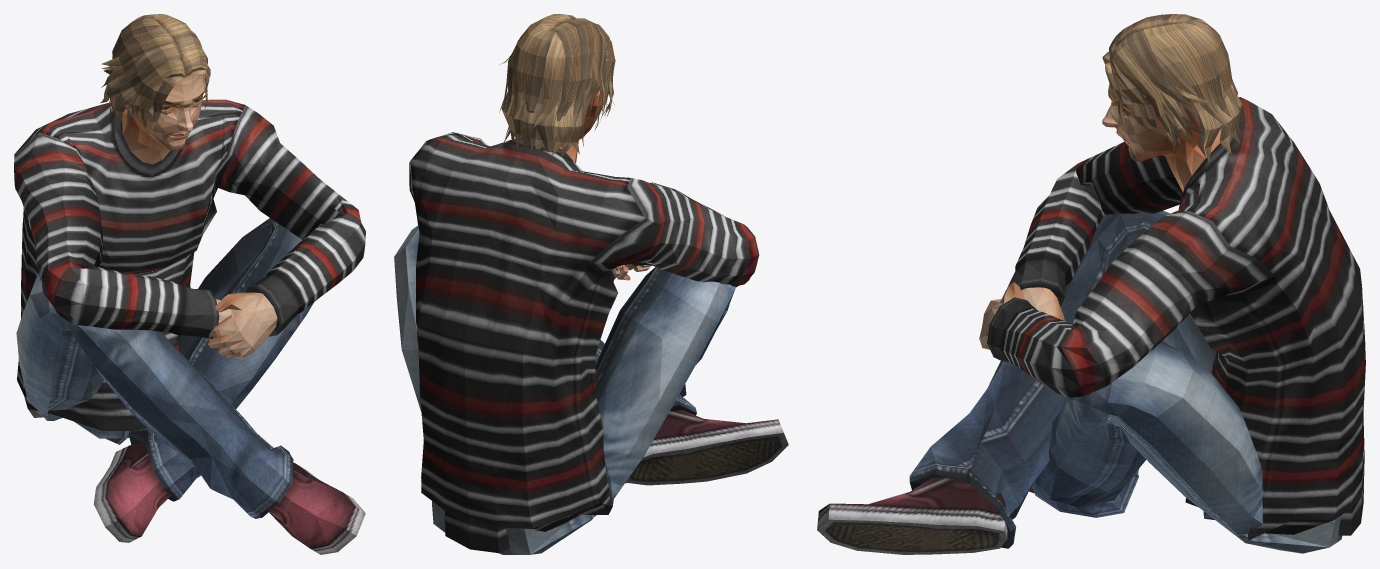
The model's file is sweethome3d-reallusion-sitting-male-10.glb.
3 renders of one model, left to right at view 1: azimuth 30°, elevation 25°; view 2: azimuth 150°, elevation 25°; view 3: azimuth 270°, elevation 25°, orthographic. The views are drawn at different scales.
Parts seen in each view (by area): view 1: Object01.001; view 2: Object01.001; view 3: Object01.001.
Boxes of the visible parts, bbox=[...] form: Object01.001: bbox=[14, 14, 365, 554]; Object01.001: bbox=[394, 14, 788, 554]; Object01.001: bbox=[817, 14, 1365, 554].
Bounding box in the file's own units: 67.57 × 92.73 × 88.37.
Materials: 4 (3 with a texture image).
